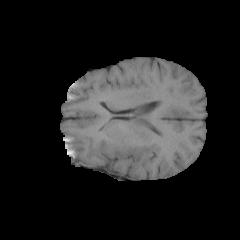glioma: (100, 136, 155, 167)
